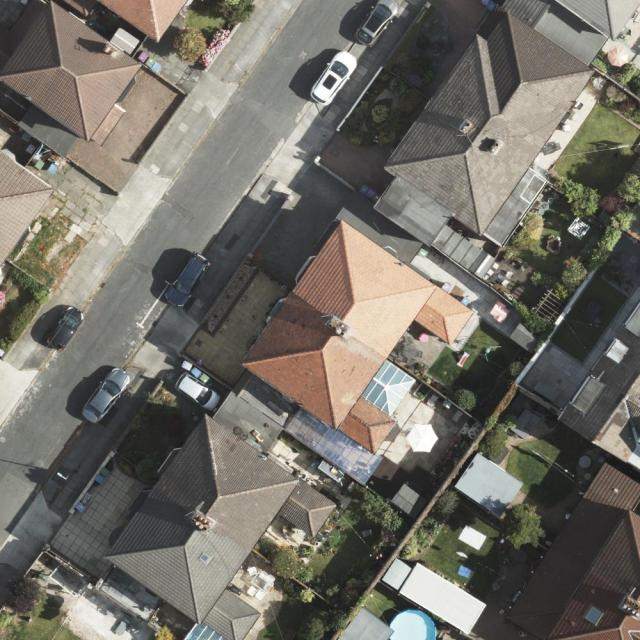roof: (104, 0, 640, 640), (509, 462, 640, 640), (0, 0, 144, 145), (557, 299, 640, 471), (0, 149, 56, 266), (97, 0, 190, 43)
skylight: (285, 406, 384, 485), (182, 620, 228, 640), (198, 551, 213, 565)
